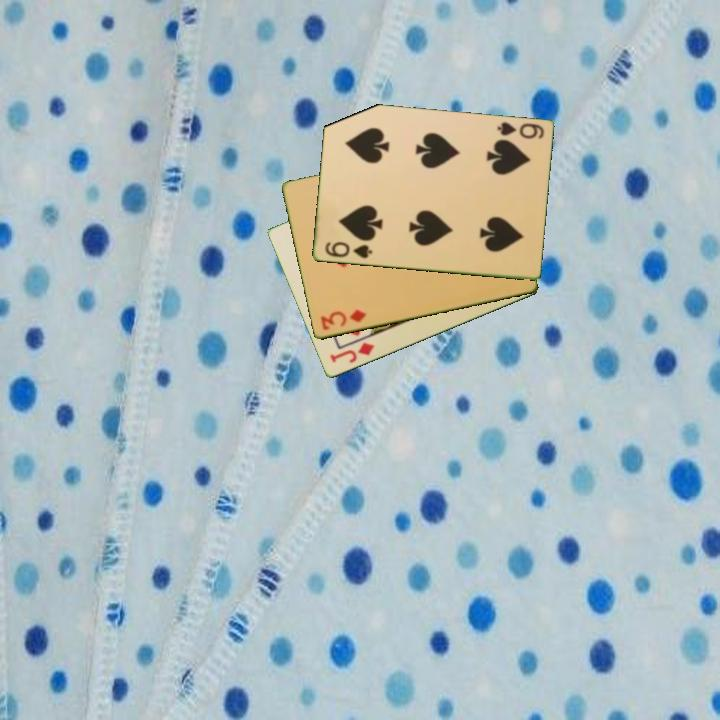3d: (317, 306, 369, 333)
6s: (321, 238, 374, 261), (493, 119, 546, 142)
Jd: (326, 339, 377, 366)
